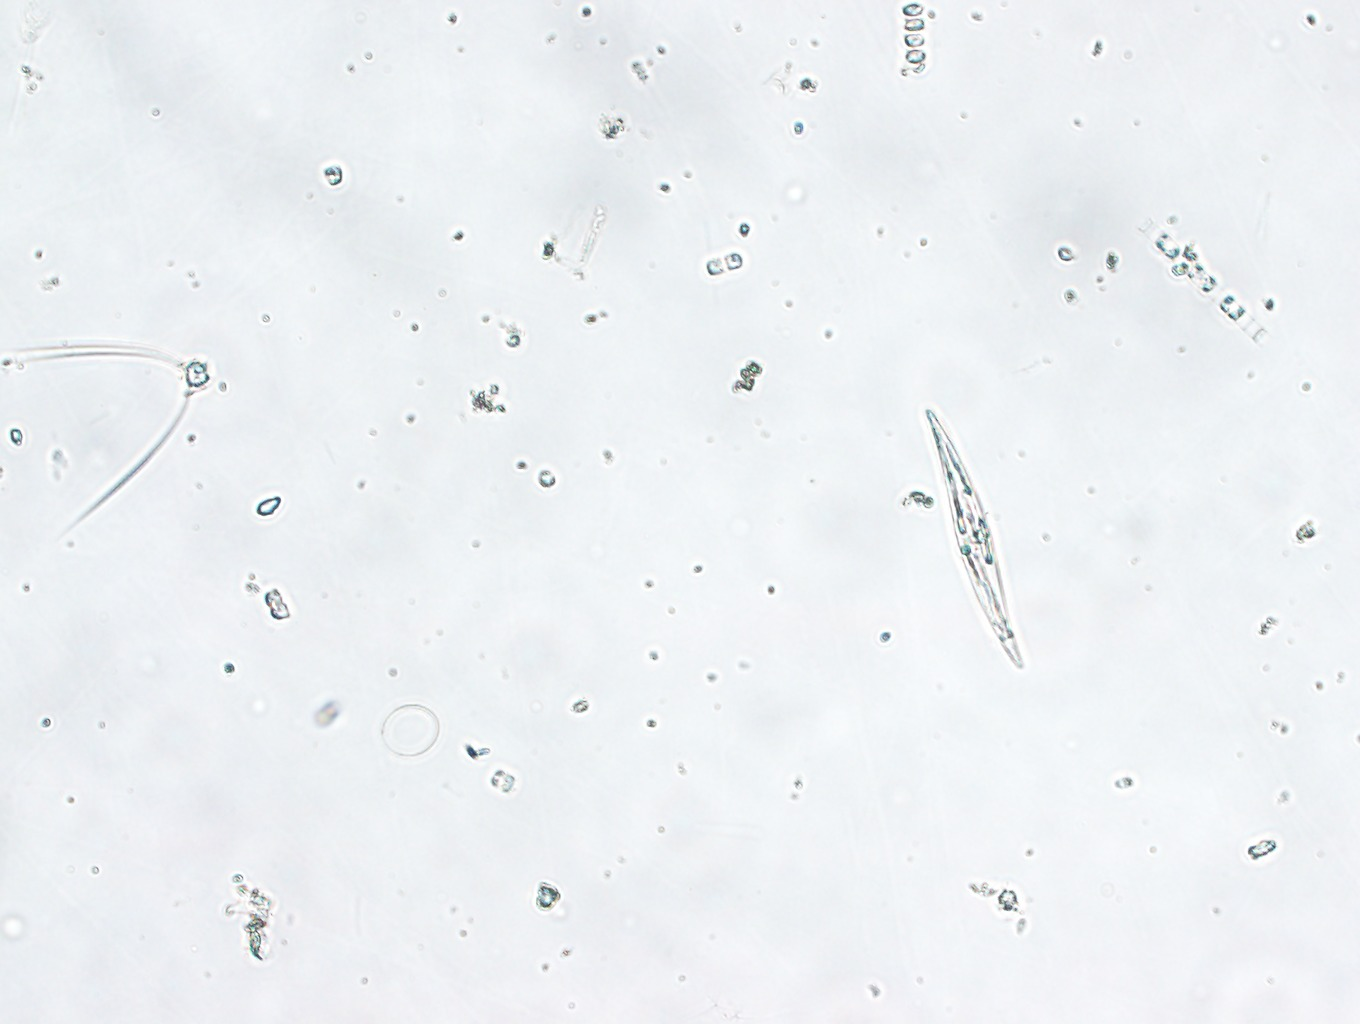chaetoceros: (1, 319, 214, 541)
pleurosigma pelagicum: (916, 401, 1026, 672)
skeletonema: (1127, 210, 1276, 351), (876, 2, 943, 80)
